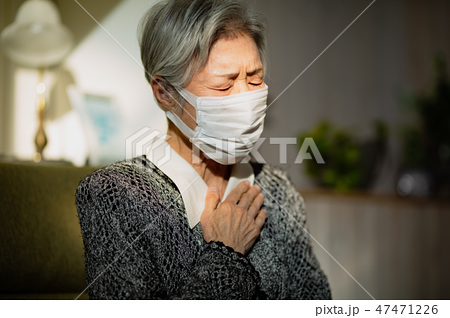mask: (190, 87, 269, 167)
